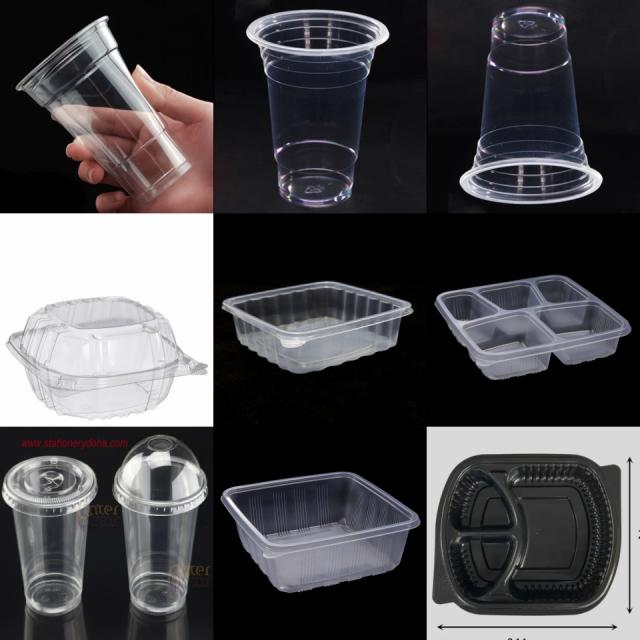Single-Use-Plastic: (16, 16, 190, 203), (434, 455, 620, 614), (246, 10, 389, 207), (460, 8, 602, 204), (8, 296, 206, 419), (221, 472, 419, 592), (435, 275, 630, 378), (222, 281, 412, 374), (112, 435, 208, 615), (2, 456, 98, 616)
